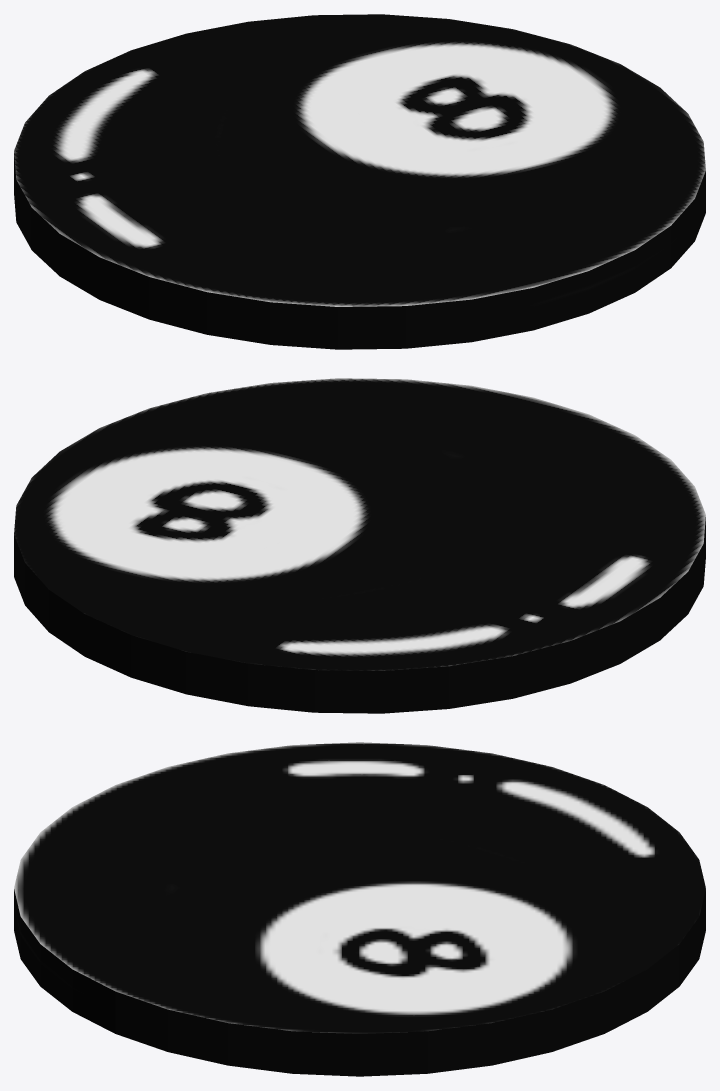
The model's file is 8ball.fbx.
3 views of the same model, one above another, from view 1: azimuth 30°, elevation 25°; view 2: azimuth 150°, elevation 25°; view 3: azimuth 270°, elevation 25° (orthographic).
Parts seen in each view (by area): view 1: pogTemplate; view 2: pogTemplate; view 3: pogTemplate.
Boxes of the visible parts, <box> form: pogTemplate: <box>14,14,705,349</box>; pogTemplate: <box>14,378,705,713</box>; pogTemplate: <box>14,742,705,1076</box>.
Bounding box in the file's own units: 93.2 × 6.33 × 93.4.
